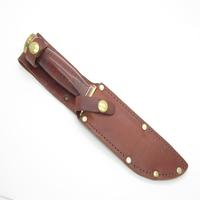knife: (15, 30, 191, 184)
